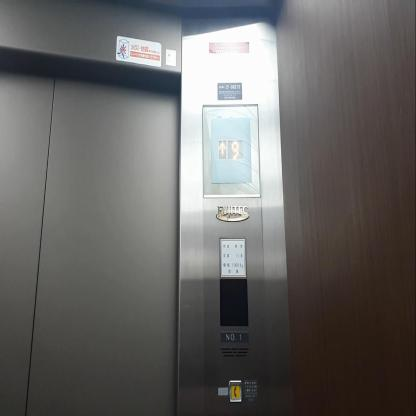call: (228, 380, 243, 404)
led: (209, 115, 252, 185), (219, 278, 248, 326)
